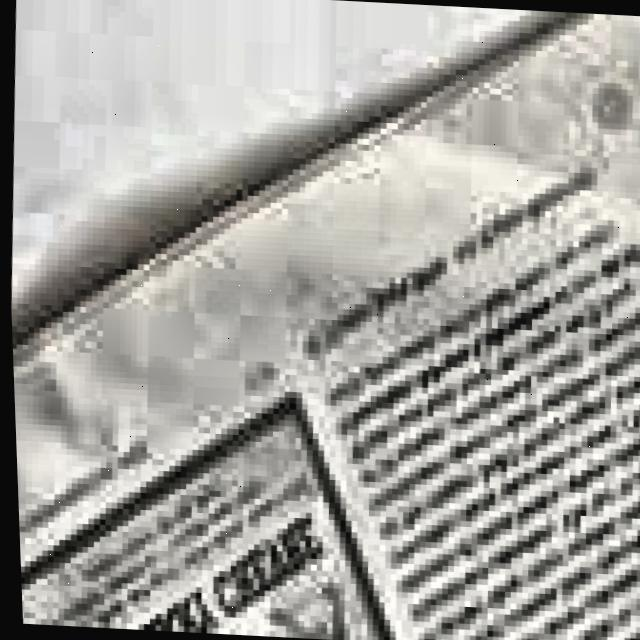paper: (10, 13, 640, 640)
